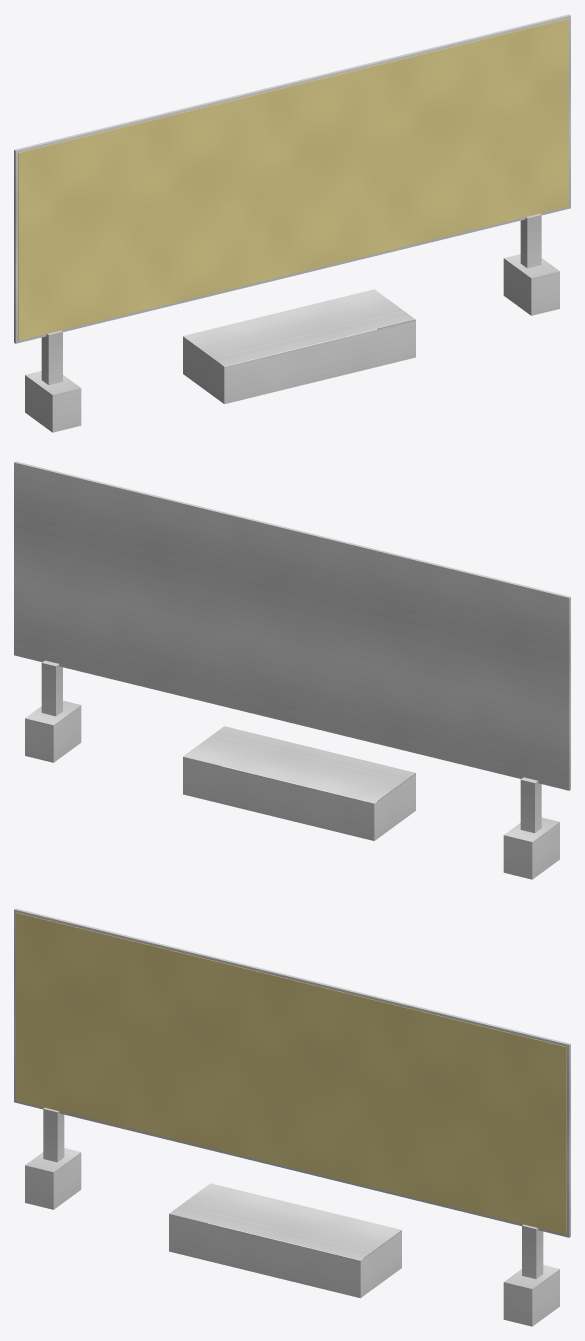
The model's file is tv_mega.obj.
3 renders of one model, top to bottom at view 1: azimuth 30°, elevation 25°; view 2: azimuth 150°, elevation 25°; view 3: azimuth 330°, elevation 25°, orthographic.
Parts seen in each view (by area): view 1: tv_mega; view 2: tv_mega; view 3: tv_mega.
Part boxes in pixels (left/top/right/bottom): tv_mega: left=14, top=14, right=570, bottom=432; tv_mega: left=14, top=461, right=570, bottom=879; tv_mega: left=14, top=908, right=570, bottom=1326.
Bounding box in the file's own units: 4.64 × 2.22 × 0.6.
